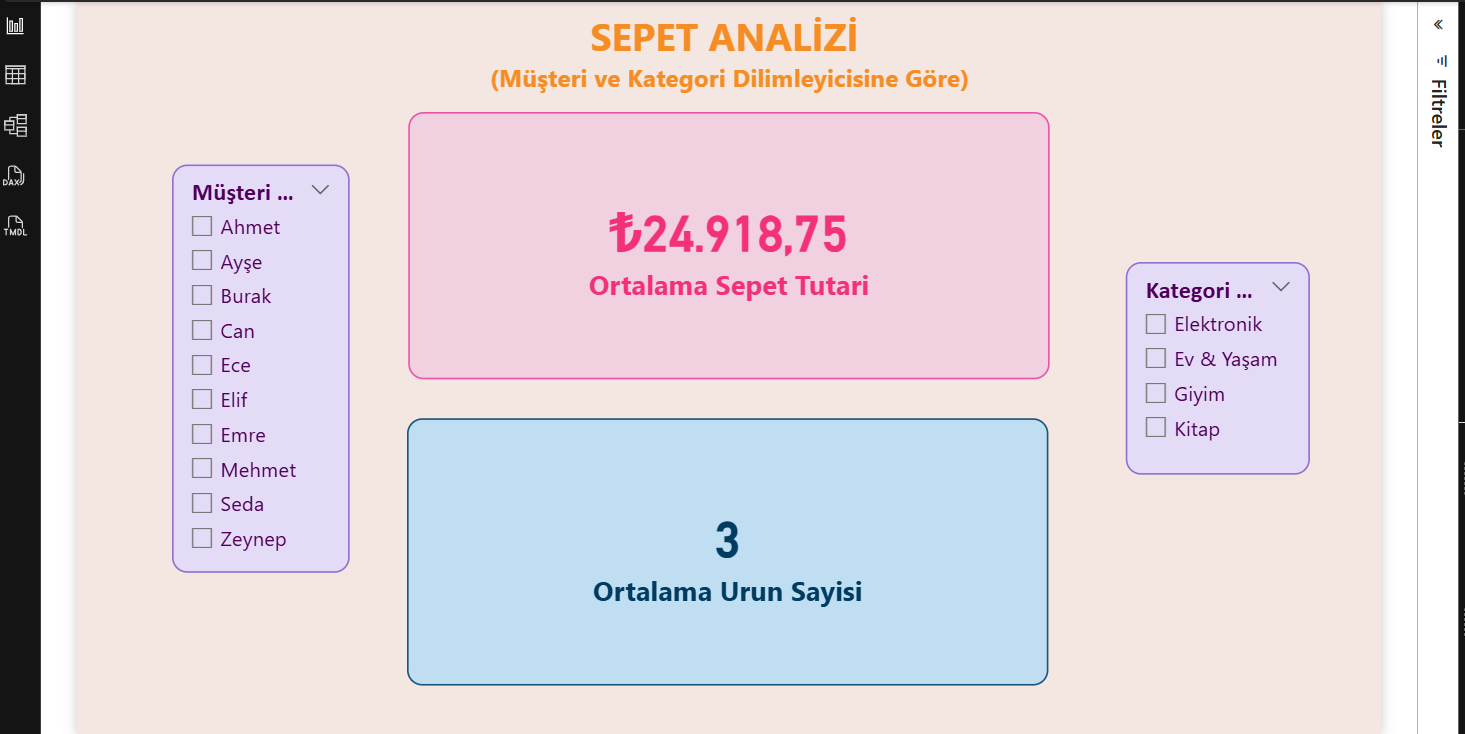

Layout of this report page (visuals, bound fields, positions):
{"tool":"powerbi","page":{"name":"2. sayfa","canvas":[1280,720],"ordinal":1},"visuals":[{"type":"textbox","box":[273.1,4.1,734.1,104.3],"z":0},{"type":"card","fields":{"Values":["public vw_sales_details.Ortalama Sepet Tutari"]},"box":[325.2,108.4,629.8,262.1],"z":1000},{"type":"card","fields":{"Values":["public vw_sales_details.Ortalama Urun Sayisi"]},"box":[323.8,408.9,629.8,262.1],"z":2000},{"type":"slicer","fields":{"Values":["public customers.name"]},"box":[93.3,159.2,174.3,400.7],"z":3000},{"type":"slicer","fields":{"Values":["public vw_sales_details.category_name"]},"box":[1029.2,255.2,181.1,208.6],"z":4000}]}

Visuals, with their boxes on the page's 1280x720 design canvas (x1, y1, x2, y2). These are canvas units, not pixel positions in the 1465x734 screenshot, which may show the page scaled, cropped or inside an application window:
textbox: bbox=(273, 4, 1007, 108)
card - public vw_sales_details.Ortalama Sepet Tutari: bbox=(325, 108, 955, 370)
card - public vw_sales_details.Ortalama Urun Sayisi: bbox=(324, 409, 954, 671)
slicer - public customers.name: bbox=(93, 159, 268, 560)
slicer - public vw_sales_details.category_name: bbox=(1029, 255, 1210, 464)
